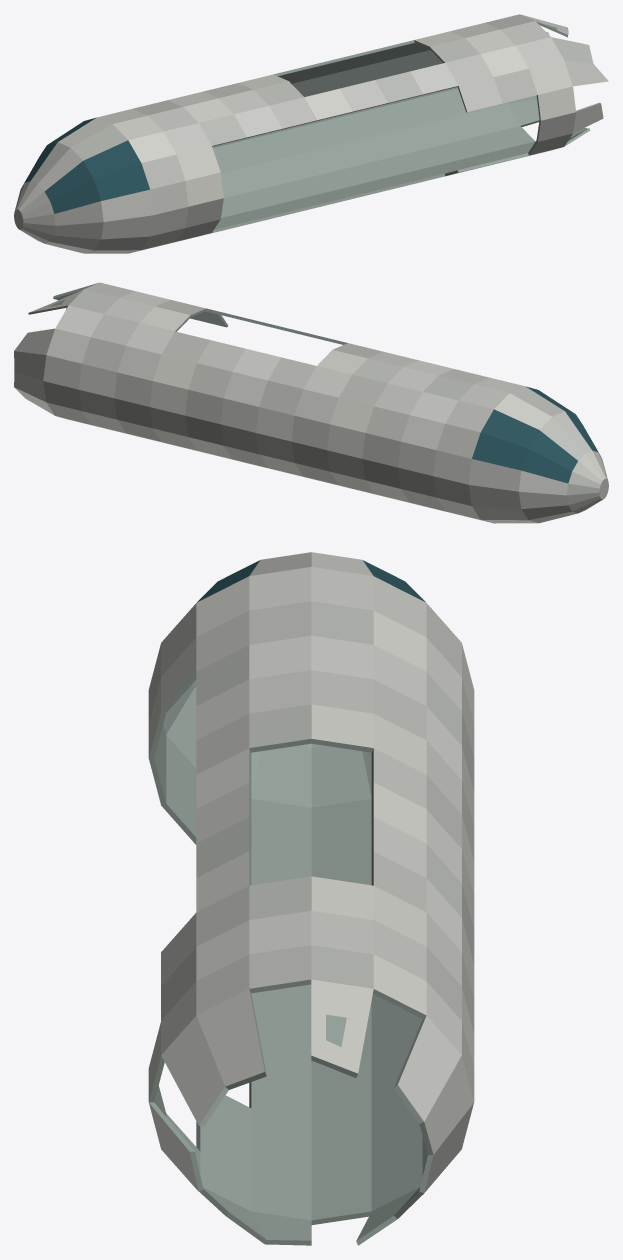
Rendered from Fuselage_Continuous.glb.
3 views of the same model, one above another, from view 1: azimuth 30°, elevation 25°; view 2: azimuth 150°, elevation 25°; view 3: azimuth 270°, elevation 25° (orthographic). The views are drawn at different scales.
Parts seen in each view (by area): view 1: Fuselage_Continuous; view 2: Fuselage_Continuous; view 3: Fuselage_Continuous.
Boxes of the visible parts, x1=… form: Fuselage_Continuous: x1=14, y1=14, x2=608, y2=253; Fuselage_Continuous: x1=14, y1=282, x2=608, y2=523; Fuselage_Continuous: x1=148, y1=552, x2=474, y2=1245.
Size of the model in its own units: 23.93 by 5 by 6.
